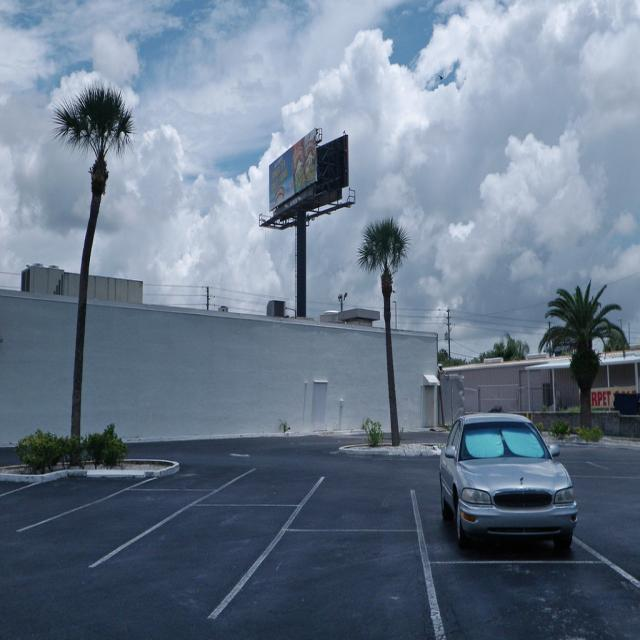car: (446, 415, 577, 550)
